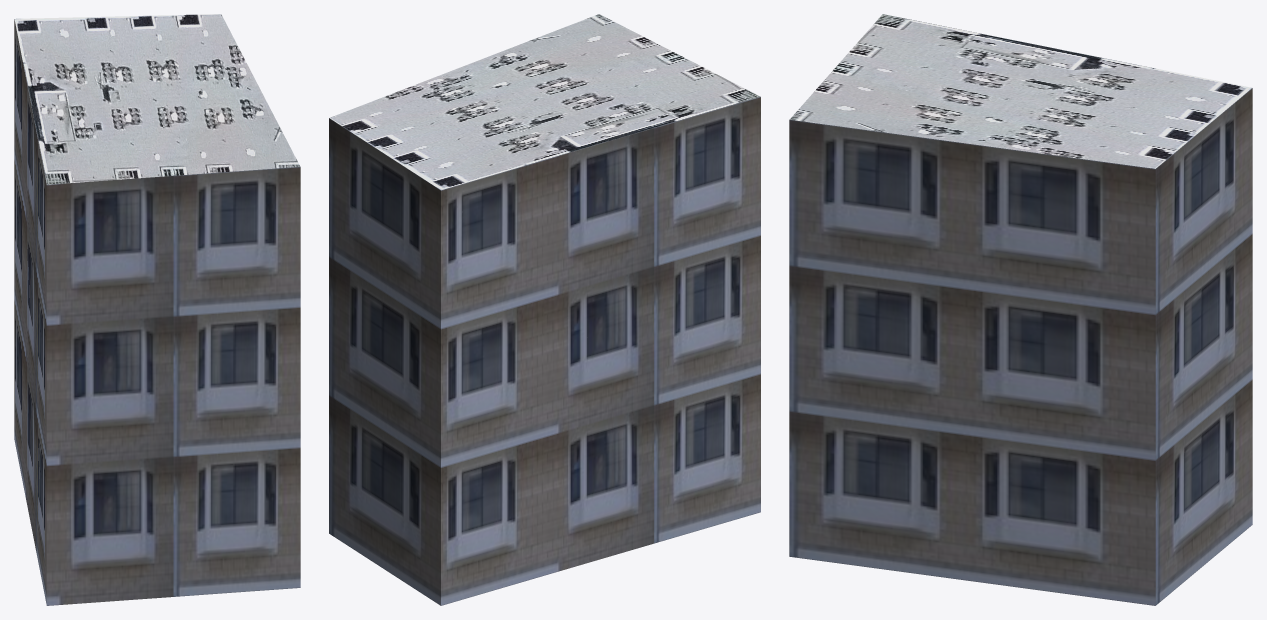
File: ResTex__2581.fbx
3 views of the same model, side by side, from view 1: azimuth 30°, elevation 25°; view 2: azimuth 150°, elevation 25°; view 3: azimuth 270°, elevation 25° (orthographic). The views are drawn at different scales.
Parts seen in each view (by area): view 1: CityEngineMaterial_3_m, CityEngineMaterial_2_m; view 2: CityEngineMaterial_3_m, CityEngineMaterial_2_m; view 3: CityEngineMaterial_3_m, CityEngineMaterial_2_m.
Boxes of the visible parts, x1=… form: CityEngineMaterial_3_m: x1=14, y1=19, x2=300, y2=605; CityEngineMaterial_2_m: x1=14, y1=14, x2=300, y2=184; CityEngineMaterial_3_m: x1=329, y1=96, x2=760, y2=605; CityEngineMaterial_2_m: x1=329, y1=14, x2=760, y2=190; CityEngineMaterial_3_m: x1=789, y1=88, x2=1252, y2=605; CityEngineMaterial_2_m: x1=790, y1=14, x2=1251, y2=168.
Bounding box in the file's own units: 6.84 × 9 × 8.64.
2 materials, 2 textured.
